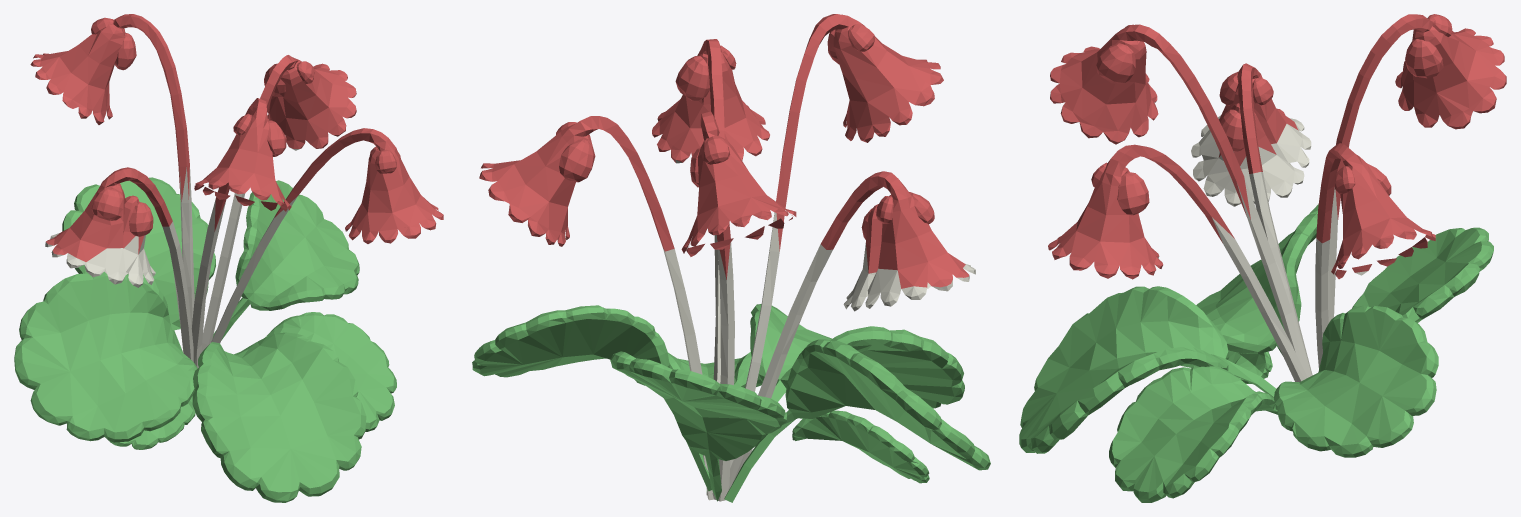
Rendered from iwakagami.glb.
3 renders of one model, left to right at view 1: azimuth 30°, elevation 25°; view 2: azimuth 150°, elevation 25°; view 3: azimuth 270°, elevation 25°, orthographic. The views are drawn at different scales.
Visible parts, largest first — view 1: geometry_0; view 2: geometry_0; view 3: geometry_0.
Boxes of the visible parts, x1,y1,x2,y2 form: geometry_0: [14, 14, 443, 502]; geometry_0: [472, 14, 990, 502]; geometry_0: [1019, 14, 1506, 502].
Bounding box in the file's own units: 0.2471 × 0.2305 × 0.2412.
